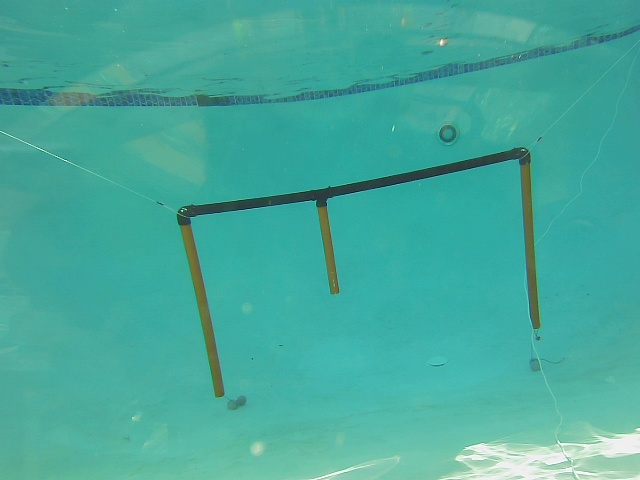Gate: (171, 219, 230, 401), (517, 157, 547, 336), (315, 200, 343, 297)
